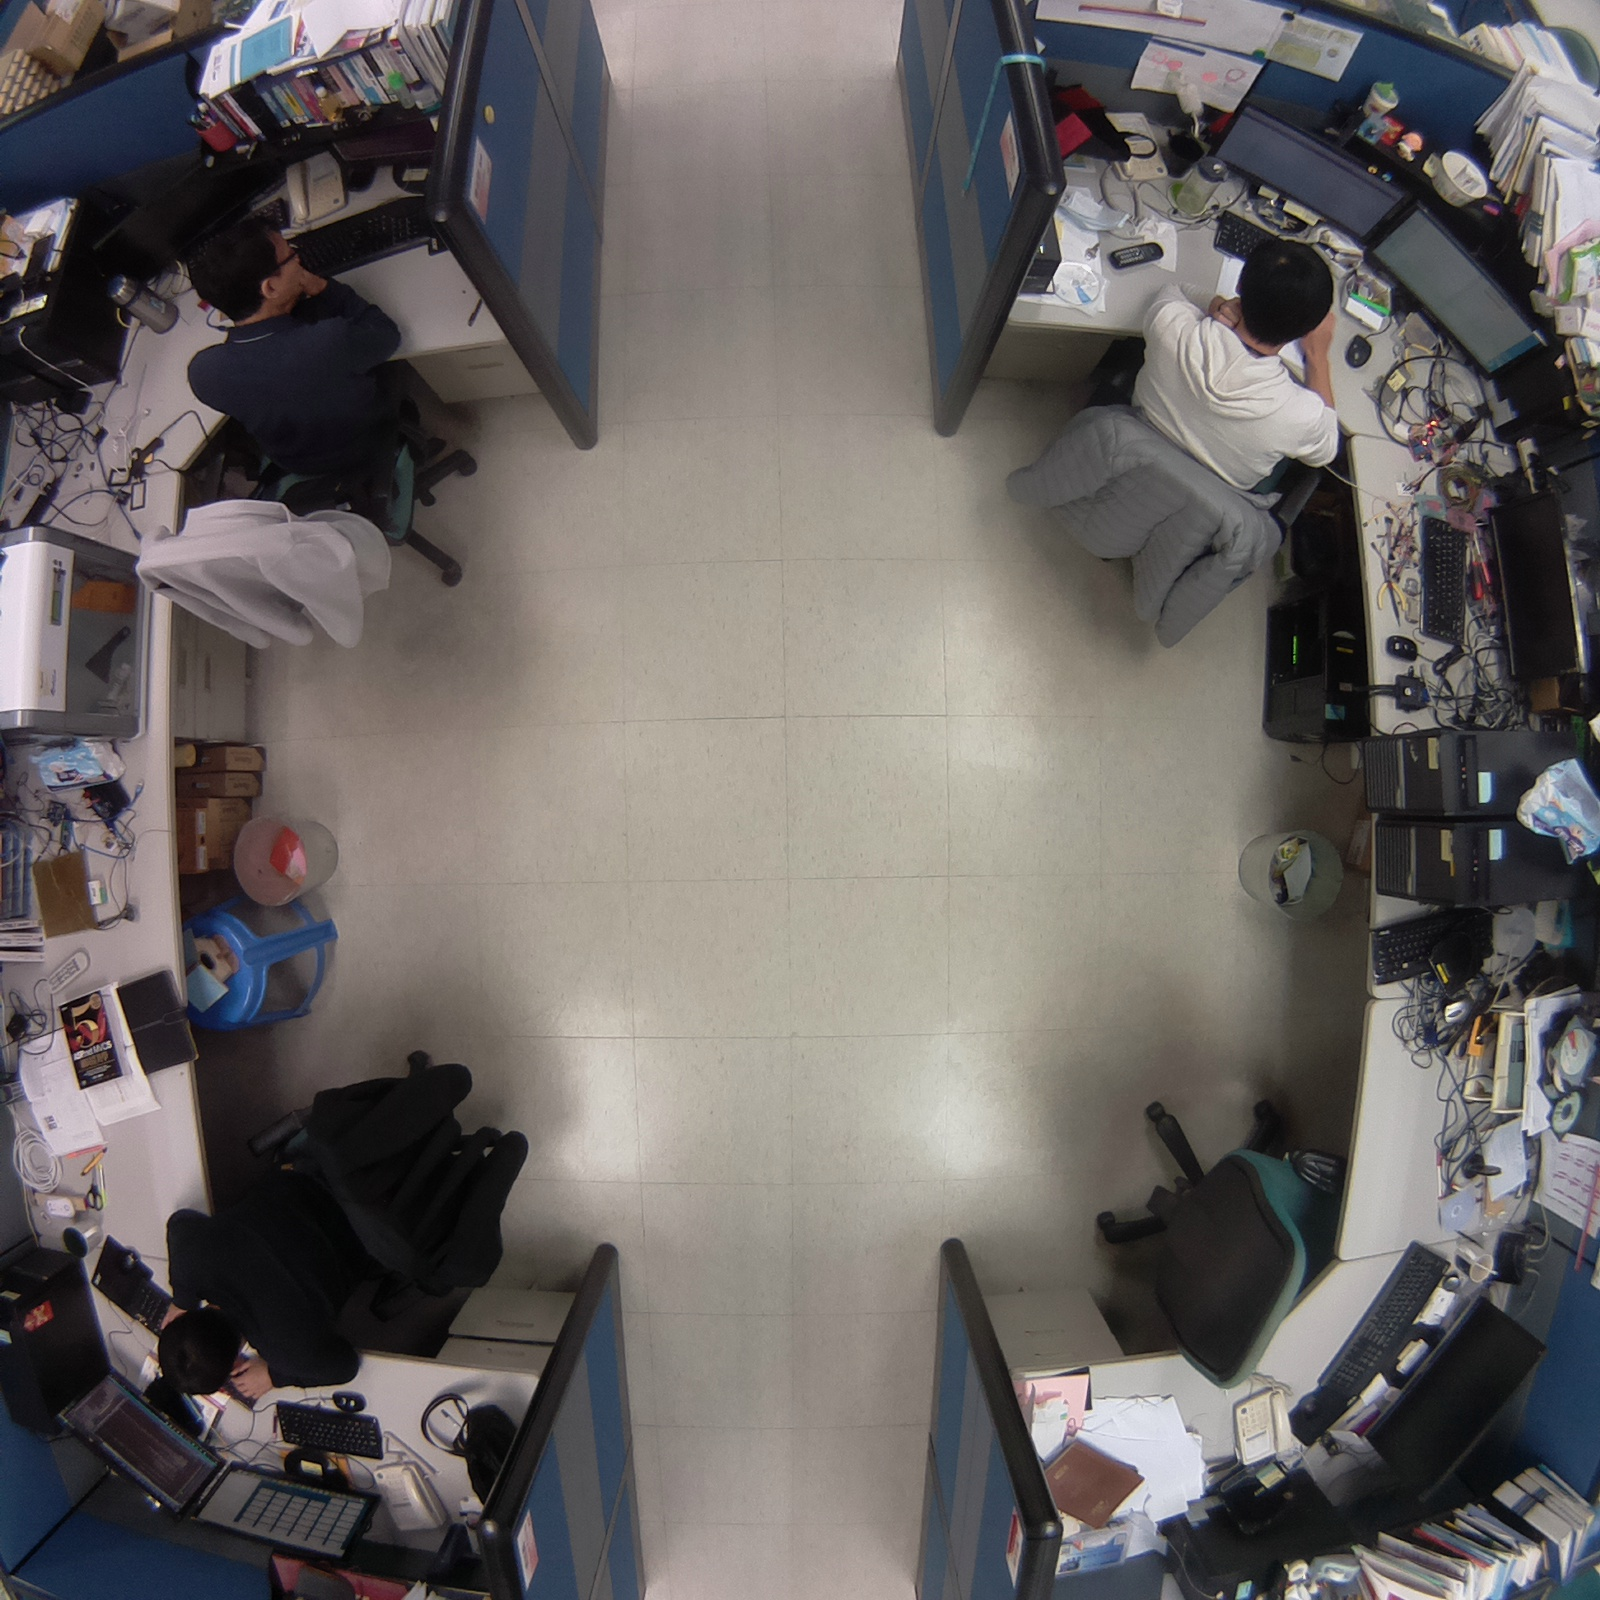chair: (1050, 1075, 1342, 1404)
head: (187, 206, 312, 331), (1229, 229, 1344, 351), (155, 1304, 257, 1406)
sitting: (122, 193, 504, 678), (986, 232, 1349, 675), (146, 1019, 542, 1407)
